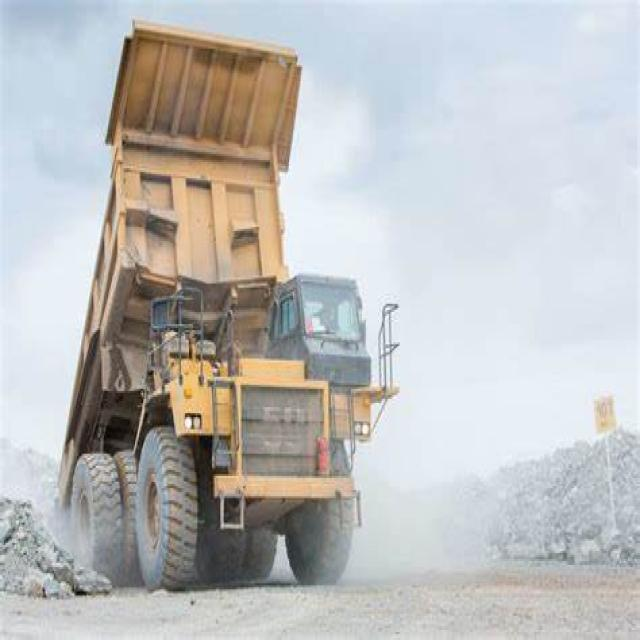dump_truck: (50, 8, 389, 594)
